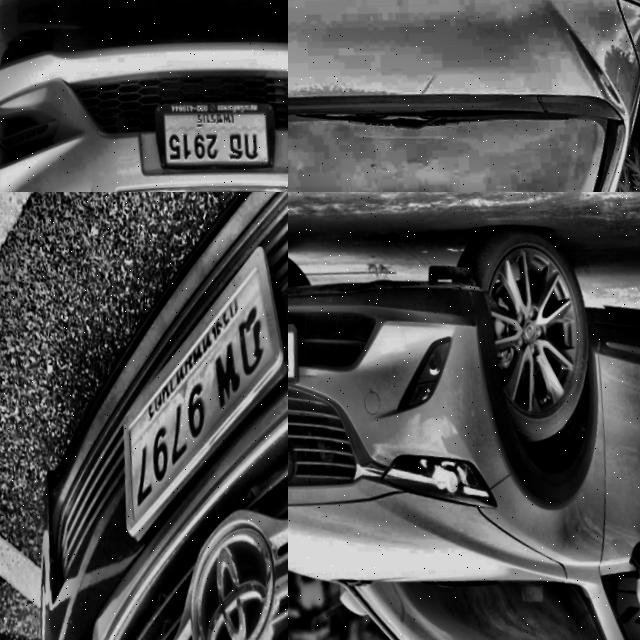license-plate: (98, 215, 288, 557), (149, 82, 281, 177)
